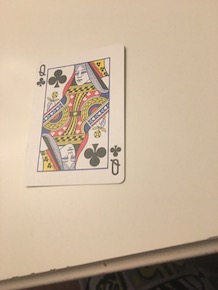QueenOfClubs: (18, 42, 134, 192)
